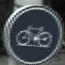bike lane: (4, 6, 62, 61)
